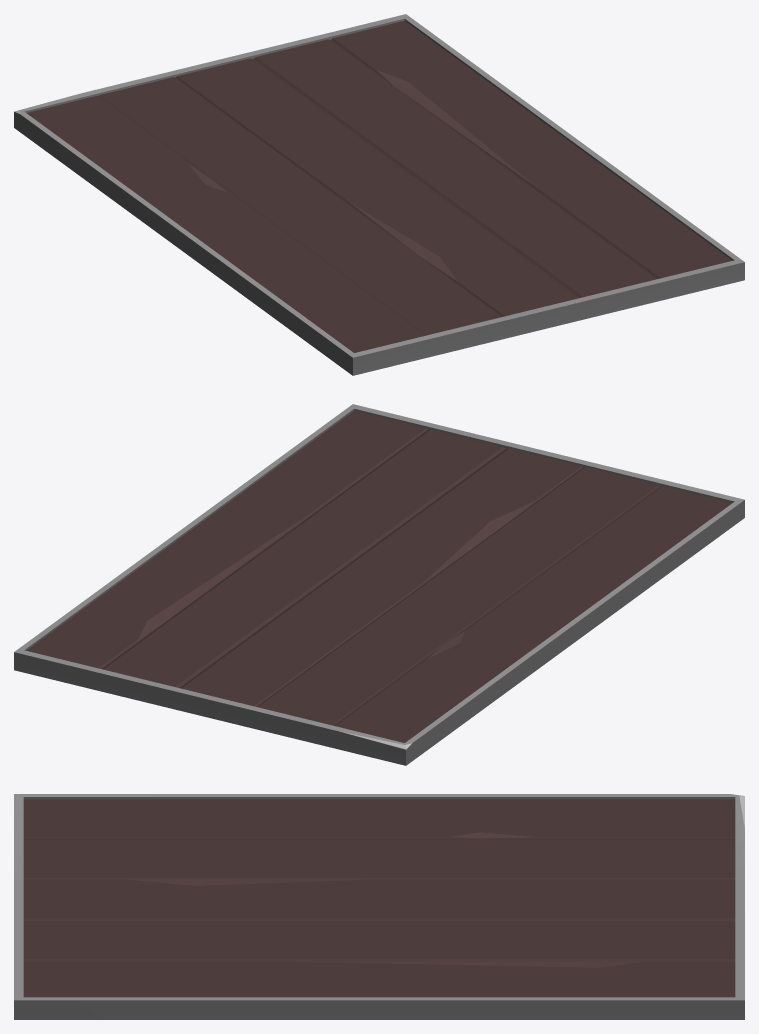
Rendered from prop_7.FBX.
3 renders of one model, top to bottom at view 1: azimuth 30°, elevation 25°; view 2: azimuth 150°, elevation 25°; view 3: azimuth 270°, elevation 25°, orthographic. The views are drawn at different scales.
Parts seen in each view (by area): view 1: prop_7; view 2: prop_7; view 3: prop_7.
Part boxes in pixels (x1=…): prop_7: x1=14, y1=14, x2=744, y2=375; prop_7: x1=14, y1=404, x2=744, y2=765; prop_7: x1=14, y1=794, x2=744, y2=1019.
Size of the model in its own units: 35.66 by 1.58 by 53.39.
